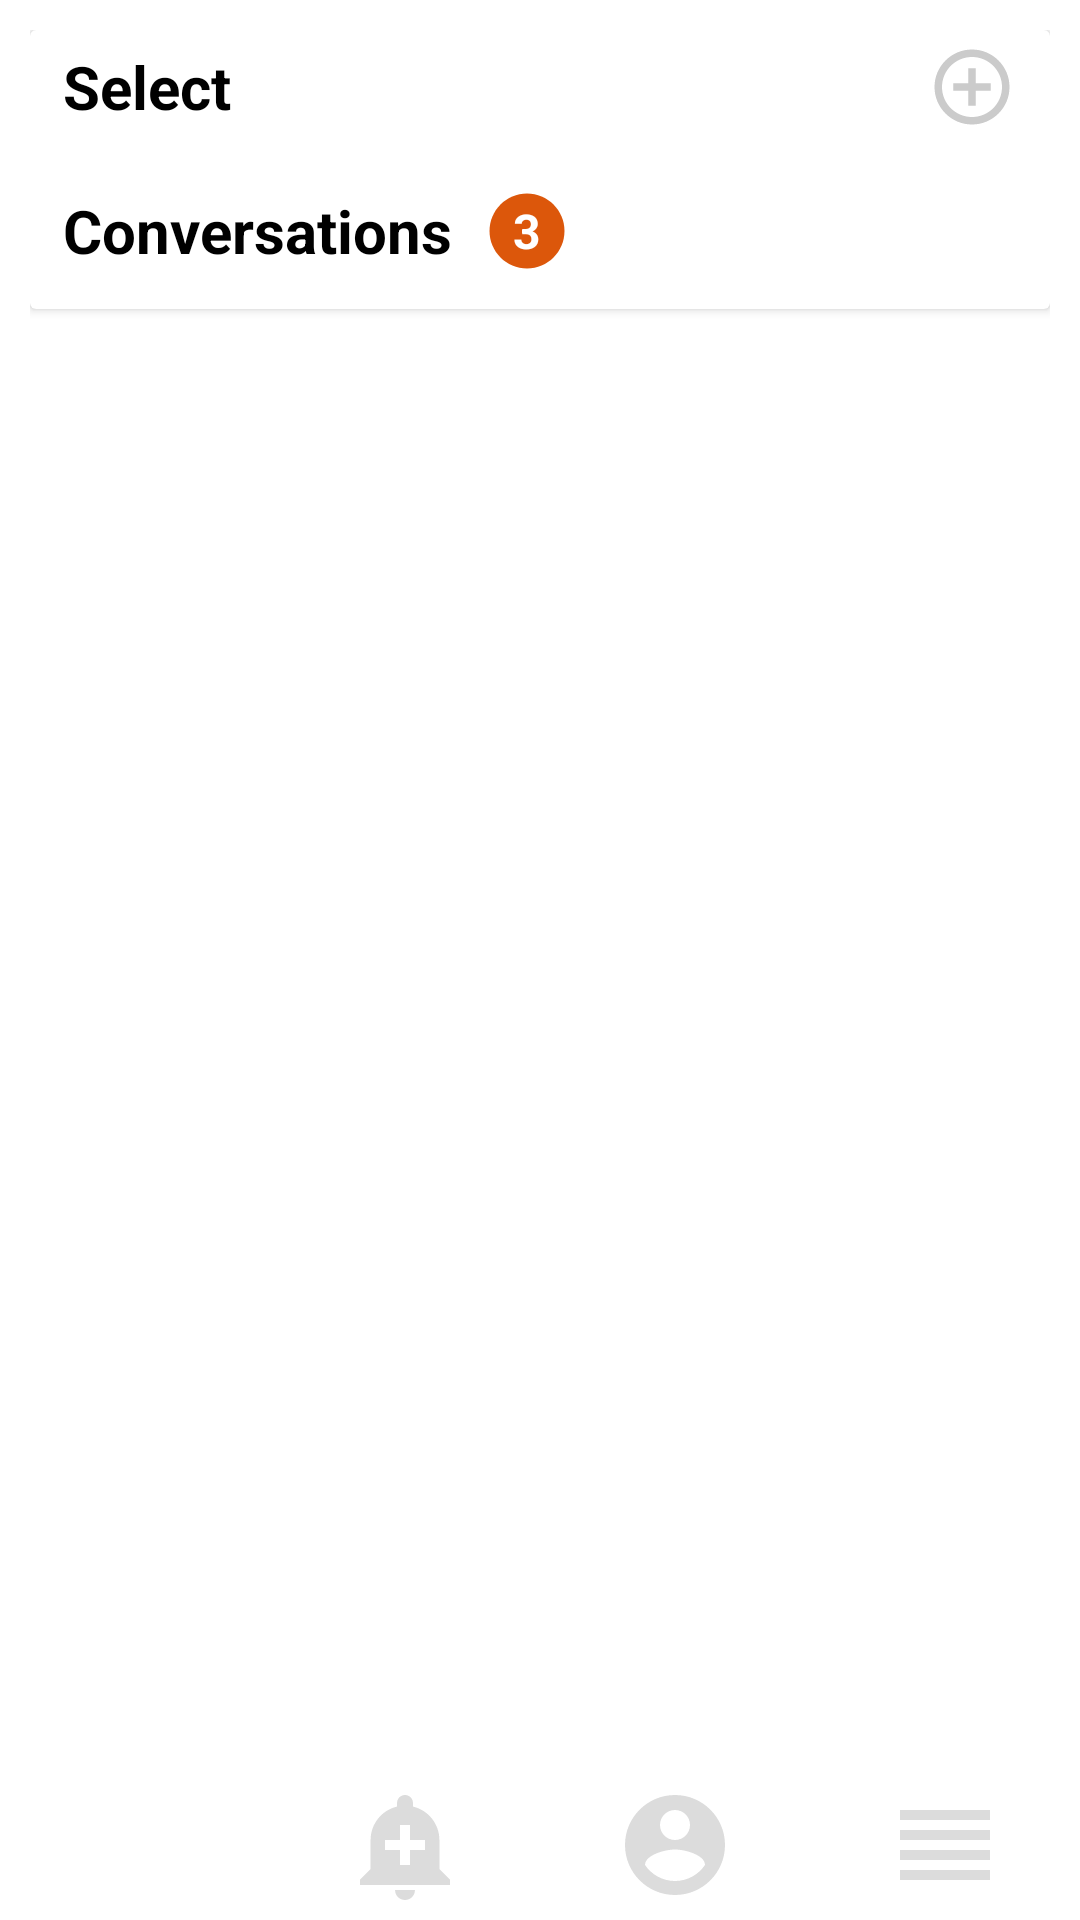

Screen size 1080×1920. Icon name, then its box in pixels as (x1, y1, x2, y2):
account: (625, 1795, 725, 1895)
add: (934, 49, 1010, 125)
alert: (360, 1795, 450, 1900)
reorder: (900, 1810, 990, 1880)
